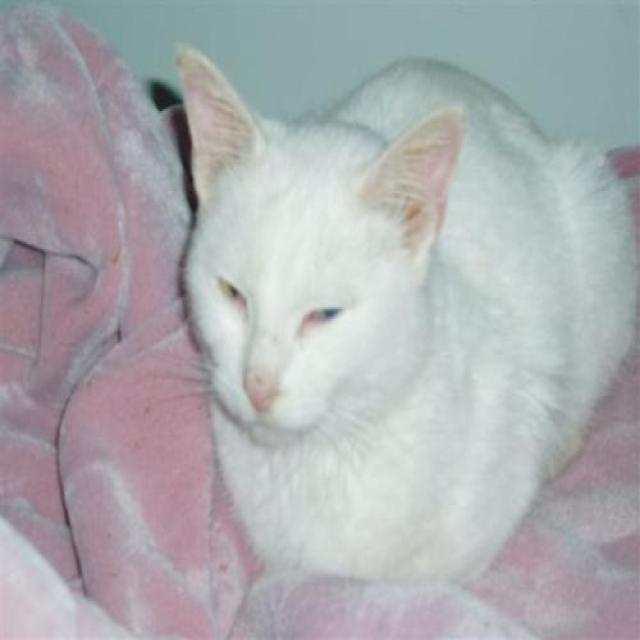Cats: (173, 43, 639, 585)
